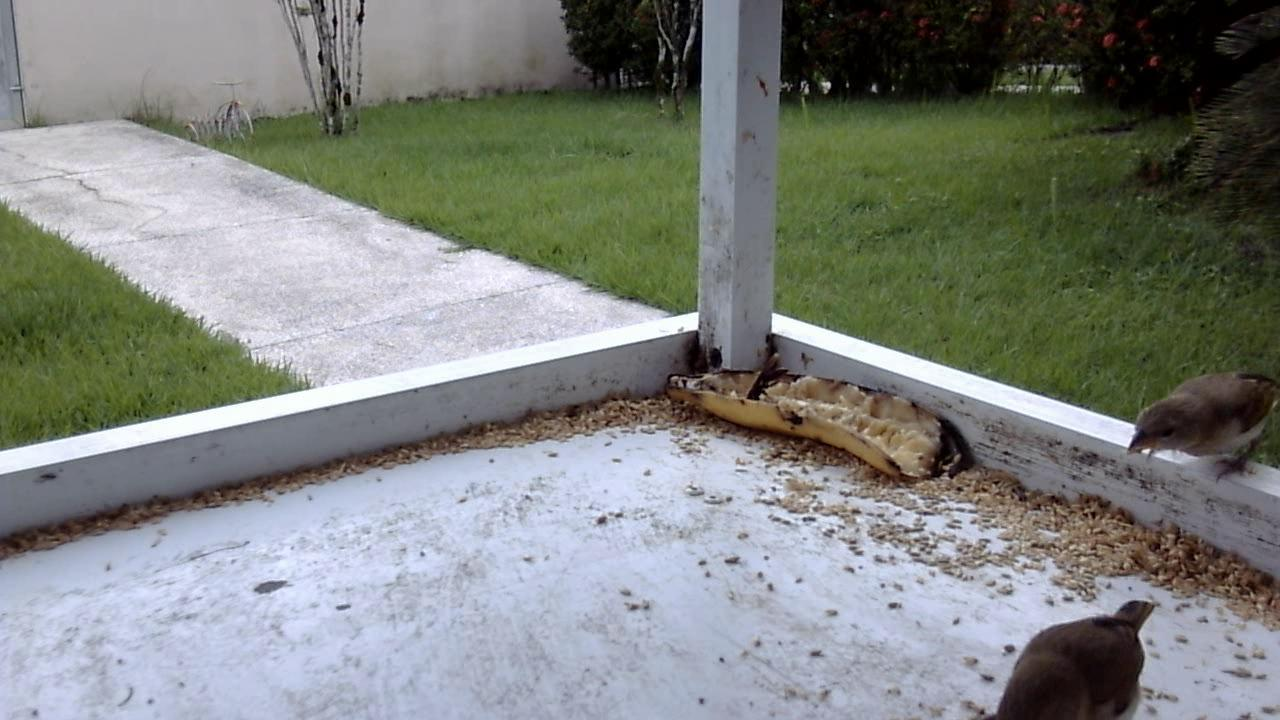canario_do_amazonas: (980, 582, 1163, 718), (1119, 365, 1278, 488)
